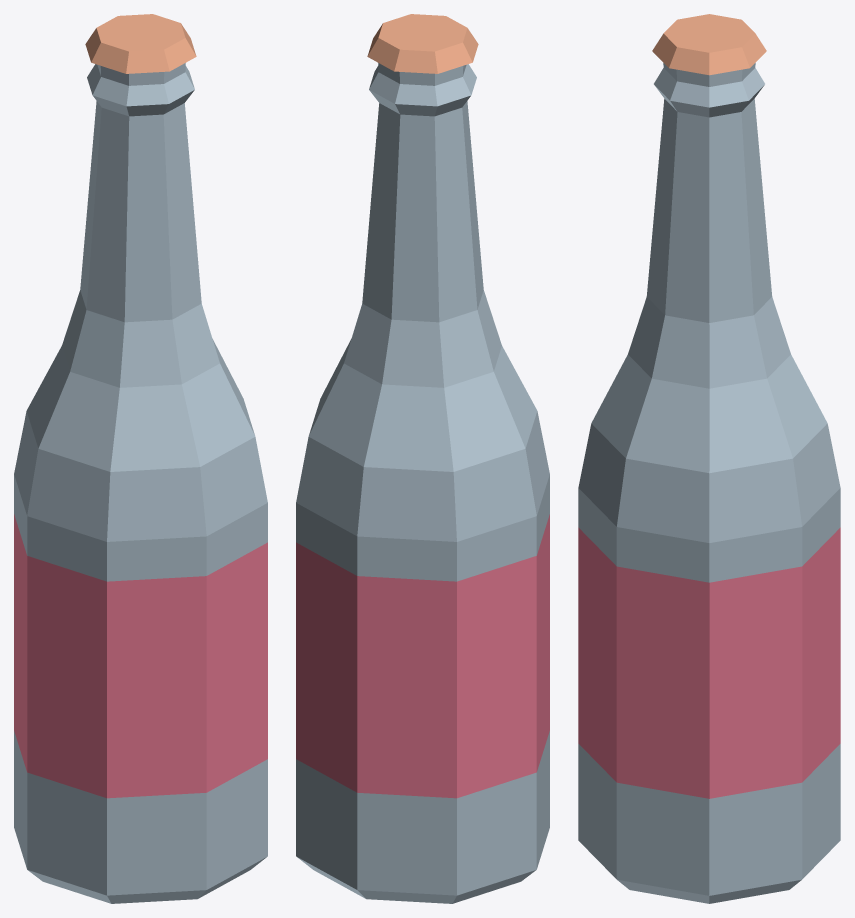
Rendered from FizzyDrink.OldPeaches.c.fbx.
The picture shows the model from 3 angles, left to right: view 1: azimuth 30°, elevation 25°; view 2: azimuth 150°, elevation 25°; view 3: azimuth 270°, elevation 25°; orthographic projection.
Parts seen in each view (by area): view 1: FizzyDrink.OldPeaches.c; view 2: FizzyDrink.OldPeaches.c; view 3: FizzyDrink.OldPeaches.c.
Boxes of the visible parts, <box> form: FizzyDrink.OldPeaches.c: <box>14,14,267,903</box>; FizzyDrink.OldPeaches.c: <box>296,14,549,903</box>; FizzyDrink.OldPeaches.c: <box>578,14,840,903</box>.
Bounding box in the file's own units: 38.32 × 133 × 38.32.
